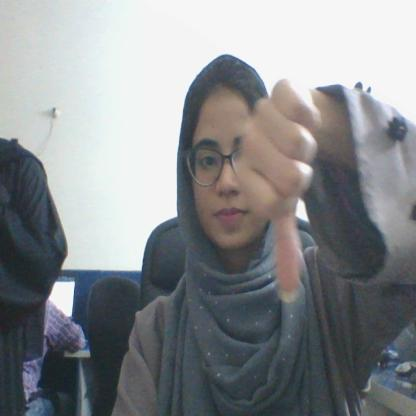thumbs-down: (233, 69, 326, 318)
